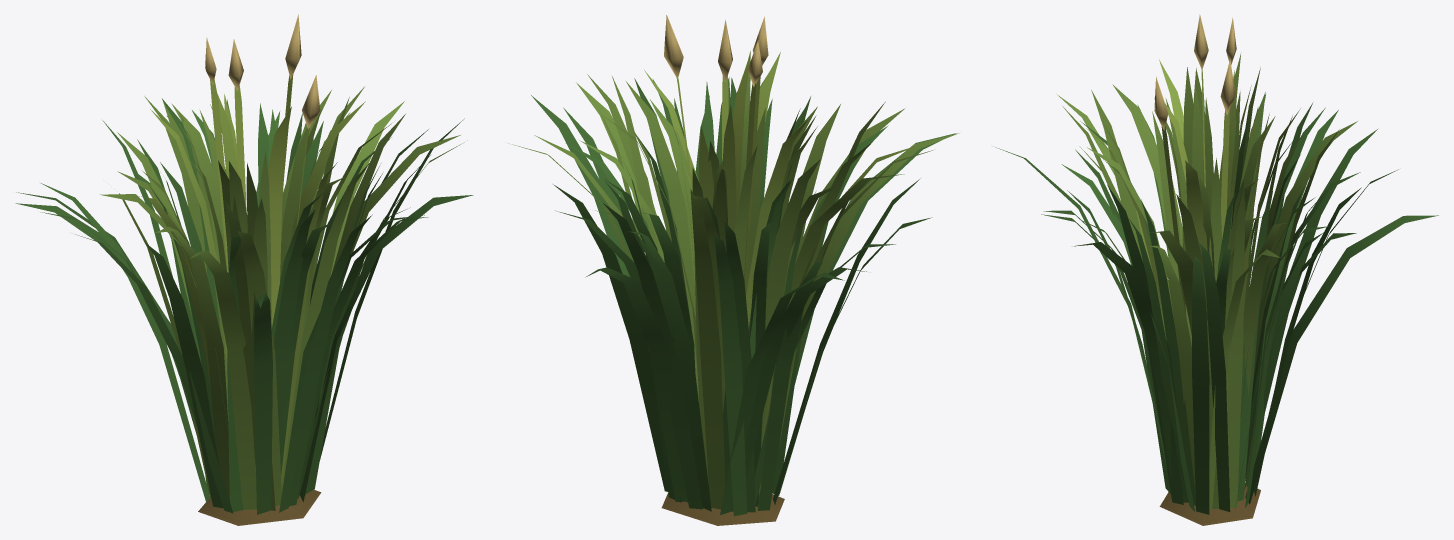
File: tall_grass_1.glb
3 views of the same model, side by side, from view 1: azimuth 30°, elevation 25°; view 2: azimuth 150°, elevation 25°; view 3: azimuth 270°, elevation 25° (orthographic). The views are drawn at different scales.
Visible parts, largest first — view 1: tall_grass_1; view 2: tall_grass_1; view 3: tall_grass_1.
Part boxes in pixels (<box>): tall_grass_1: <box>15,14,473,525</box>; tall_grass_1: <box>508,15,959,525</box>; tall_grass_1: <box>995,14,1438,525</box>.
Bounding box in the file's own units: 1 × 1.15 × 1.
Materials: 2 (2 with a texture image).
